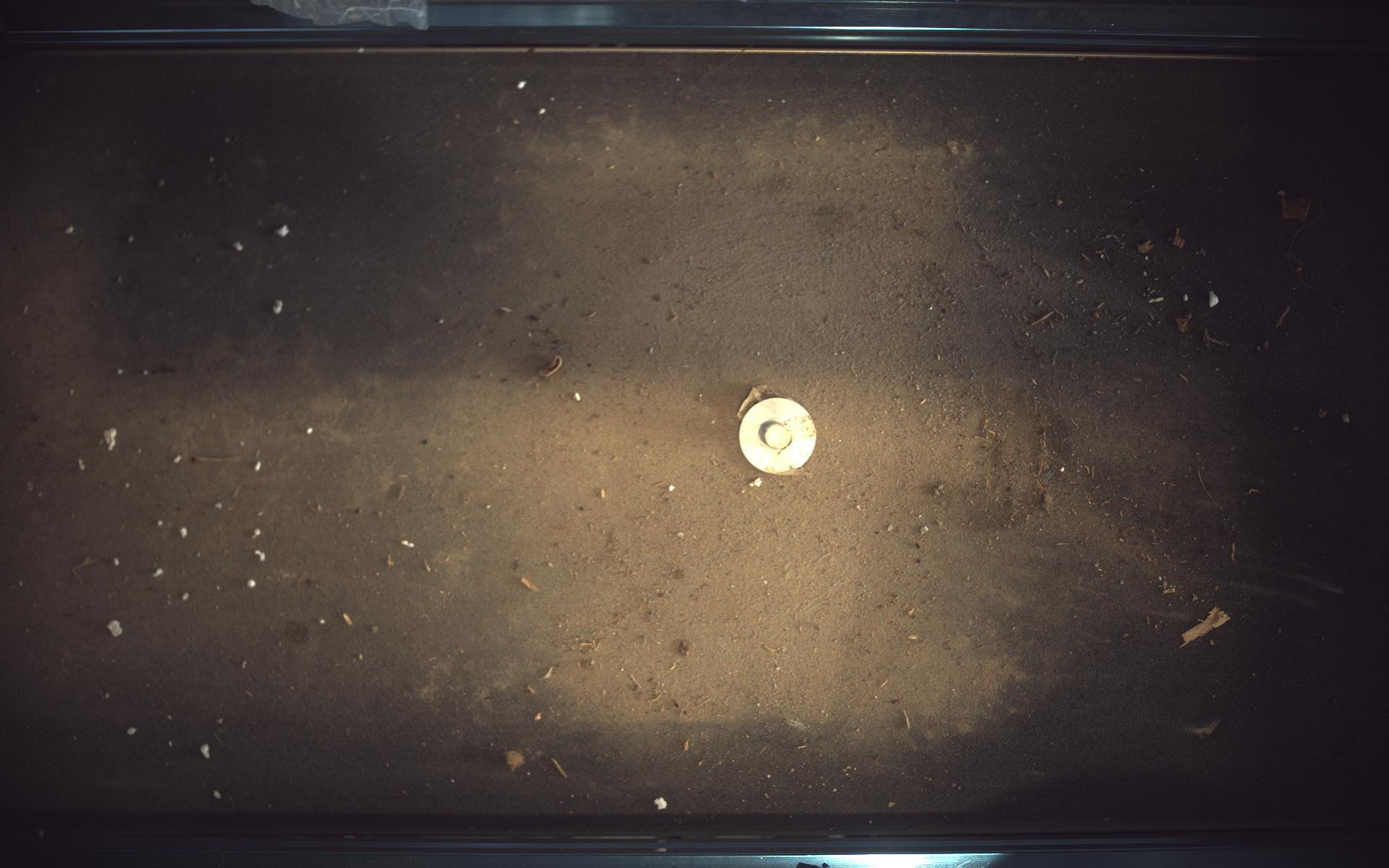plastic: (739, 386, 817, 474)
